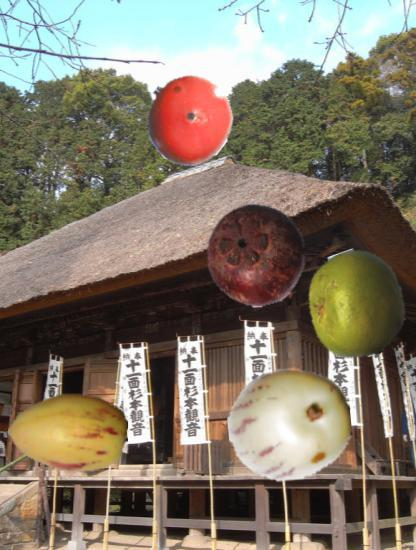Kaki: (142, 74, 233, 165)
Mangostan: (204, 203, 309, 308)
Pepino: (228, 362, 352, 486), (8, 373, 129, 494)
Pomelo: (303, 250, 411, 358)
